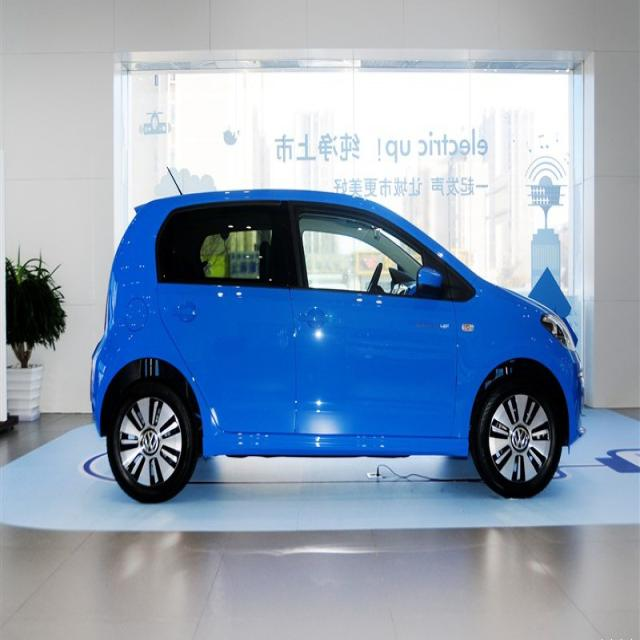front_right_side_door: (289, 198, 459, 440)
front_right_side_light: (537, 308, 576, 353)
front_right_side_mirror: (413, 264, 445, 299)
wheel: (472, 374, 562, 496), (108, 377, 193, 500)
